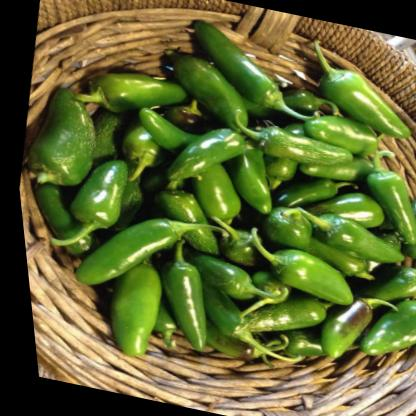chilli_pepper: (54, 192, 242, 316), (182, 19, 338, 123), (293, 38, 416, 142), (234, 223, 368, 310), (14, 82, 108, 193), (153, 110, 263, 198)
